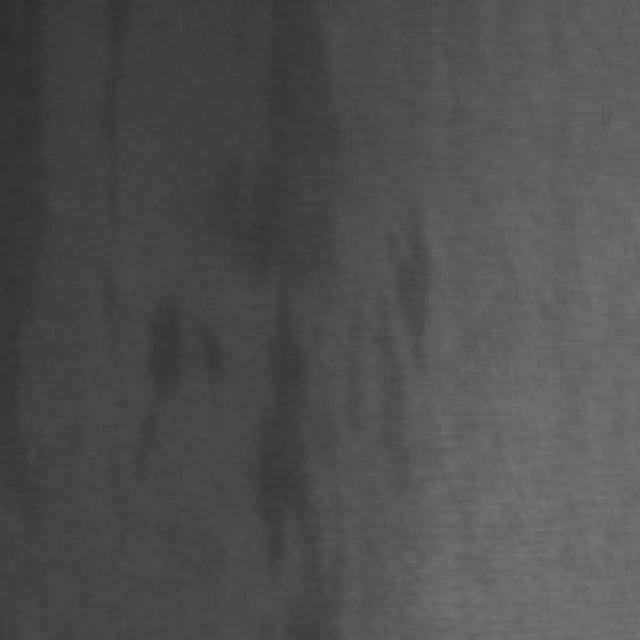inclusion: (240, 0, 358, 608), (10, 10, 60, 492), (128, 268, 227, 506), (381, 180, 464, 390), (86, 0, 144, 250)
